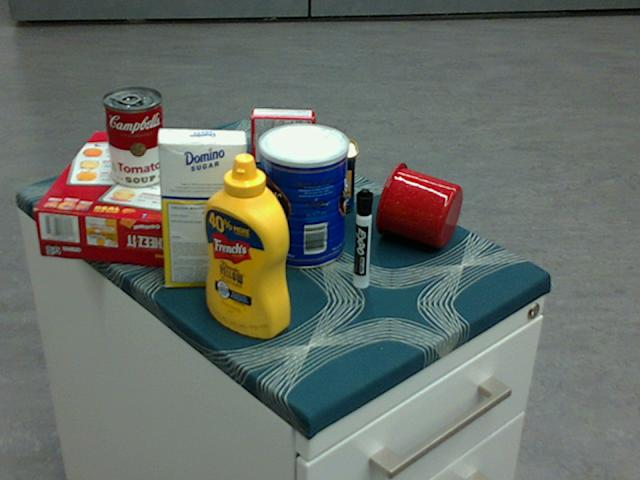cracker_box: (33, 131, 214, 269)
gelatin_box: (250, 108, 314, 163)
large_marker: (354, 188, 373, 289)
master_chef_can: (257, 122, 348, 268)
mug: (375, 161, 462, 247)
mustard_bottle: (205, 153, 289, 339)
potted_meat_can: (275, 136, 357, 214)
sugar_box: (156, 128, 246, 287)
tomato_soup_can: (102, 87, 166, 188)
tuna_fish_can: (195, 145, 243, 216)
